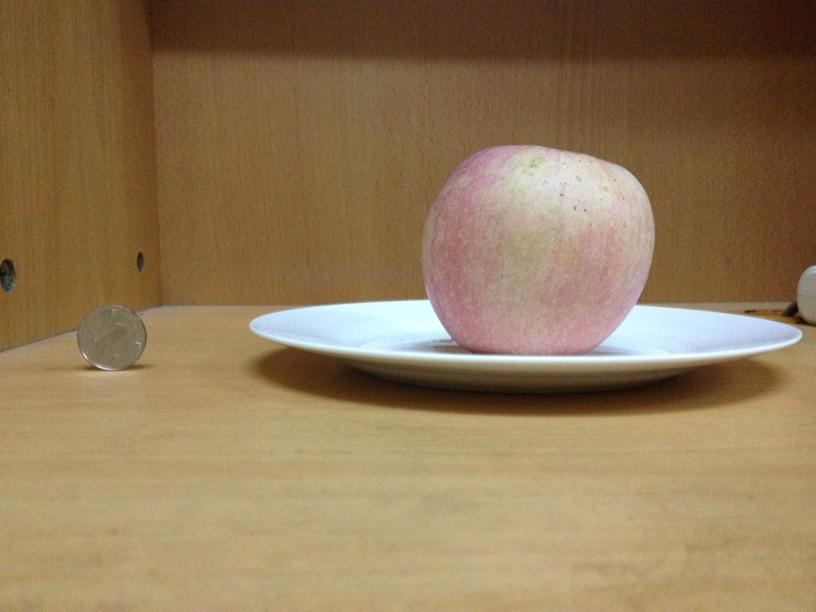apple: (421, 142, 656, 356)
coin: (78, 307, 147, 372)
